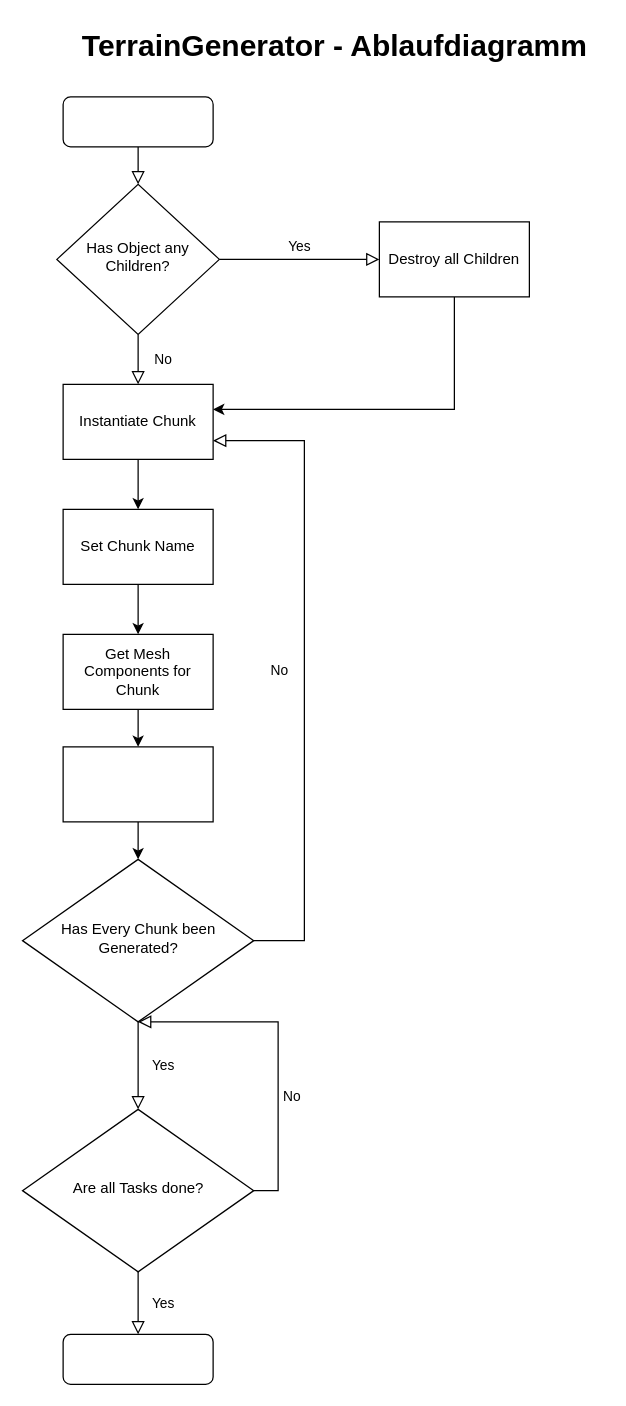
The diagram is 626 pixels wide and 1406 high, and some of its shapes have lost their labels. The shapes that lost their labels are listed below. From the top down, each one's centre as x and y in pixels, then its label:
(x=137, y=121): Start
(x=137, y=784): Generate Task to Generate Chunk Mesh
(x=137, y=1358): End
